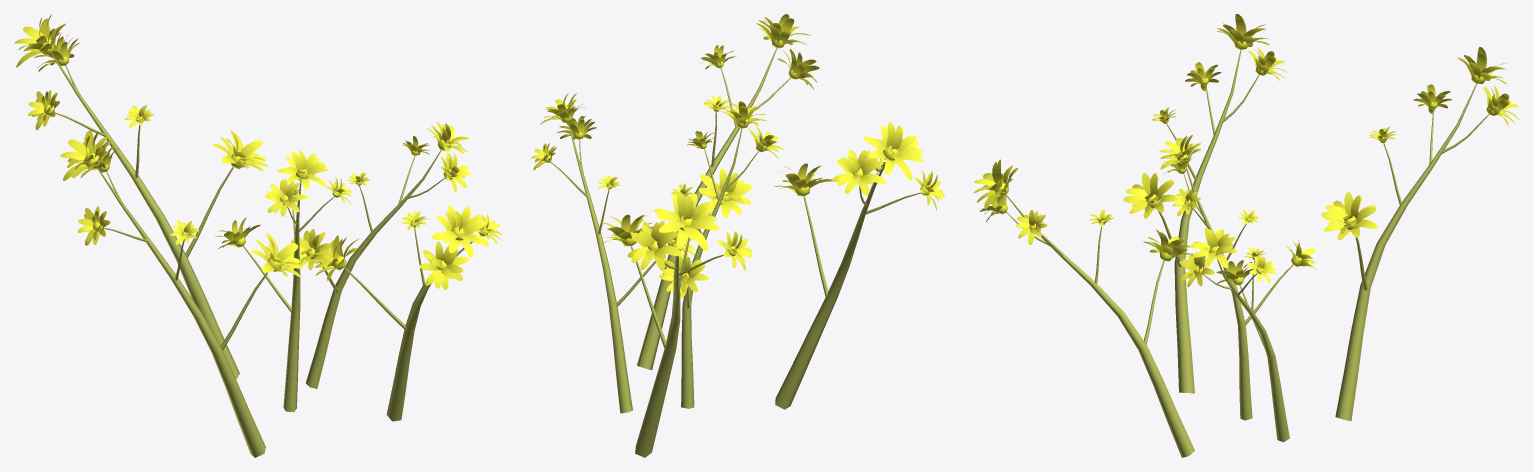
Rendered from ErvaDaninha.fbx.
3 renders of one model, left to right at view 1: azimuth 30°, elevation 25°; view 2: azimuth 150°, elevation 25°; view 3: azimuth 270°, elevation 25°, orthographic. The views are drawn at different scales.
Parts seen in each view (by area): view 1: pCylinder12; view 2: pCylinder12; view 3: pCylinder12.
Part boxes in pixels (bbox=[...]): pCylinder12: bbox=[14, 14, 502, 457]; pCylinder12: bbox=[531, 14, 944, 457]; pCylinder12: bbox=[973, 14, 1519, 457].
Size of the model in its own units: 196 by 163 by 251.
